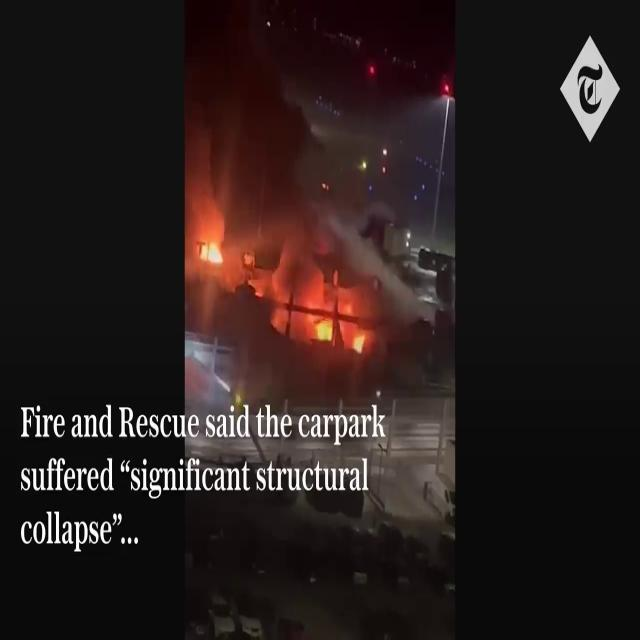Fire: (196, 221, 227, 275)
Smoke: (184, 1, 368, 273)
